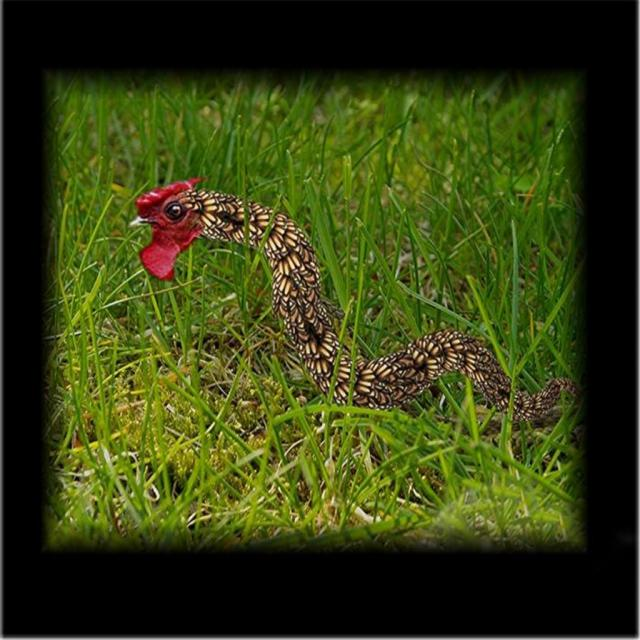Chicken: (136, 170, 203, 269)
